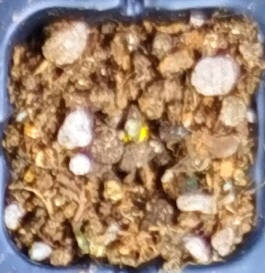pepper seed: (48, 47, 198, 190)
